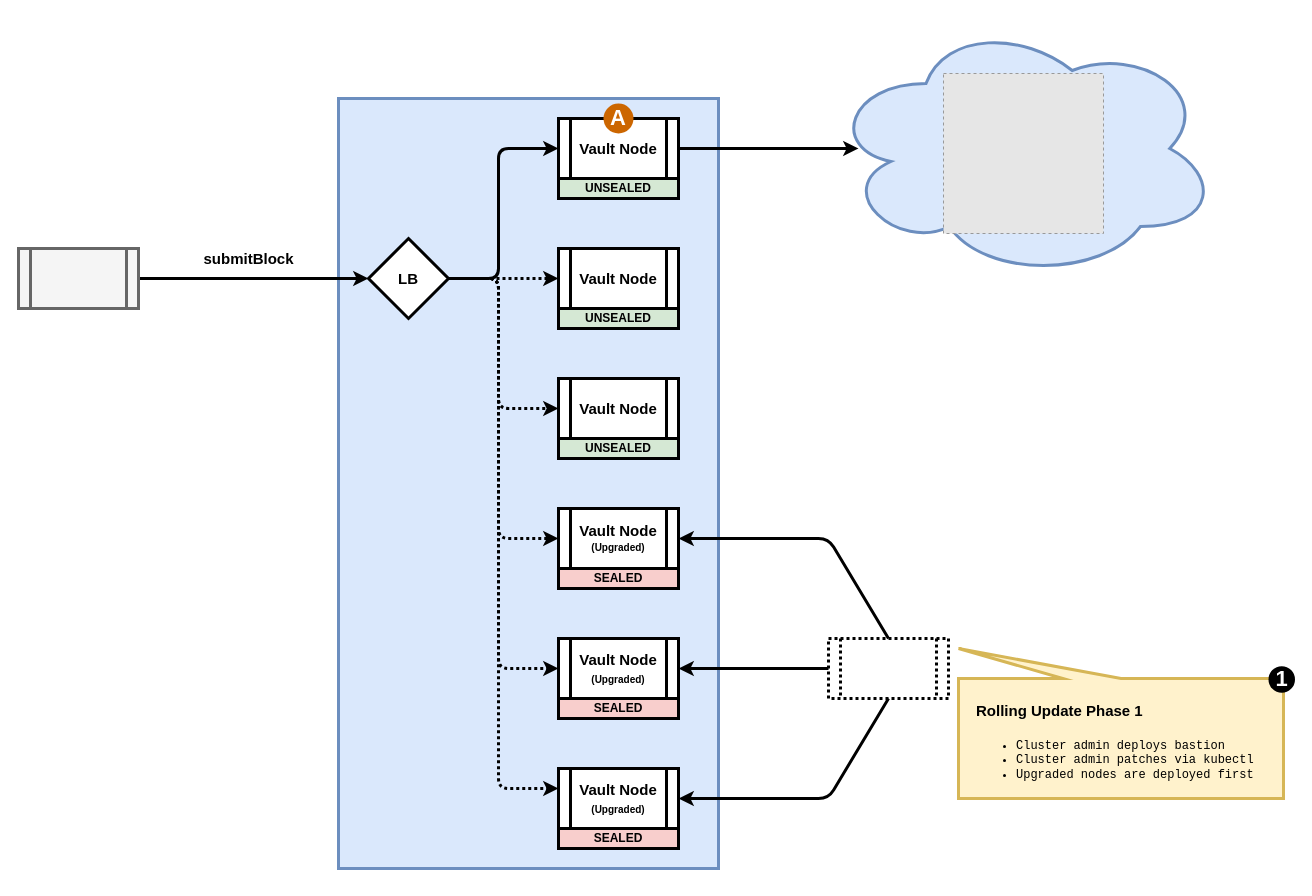
Image size: 1312x896. Some labels were removed from this diagram. Grey dashed boxes stand in for pictures. The box of each missing label's shape, as (x1, y1, x2, y2) in pixels:
Ephemeral Bastion: (826, 636, 950, 700)
OmiseGO Client: (16, 246, 140, 310)
